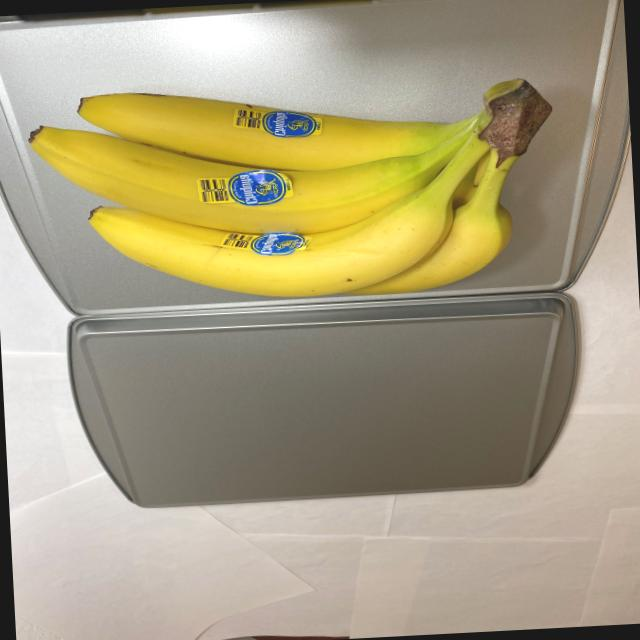banana: (20, 54, 565, 314)
